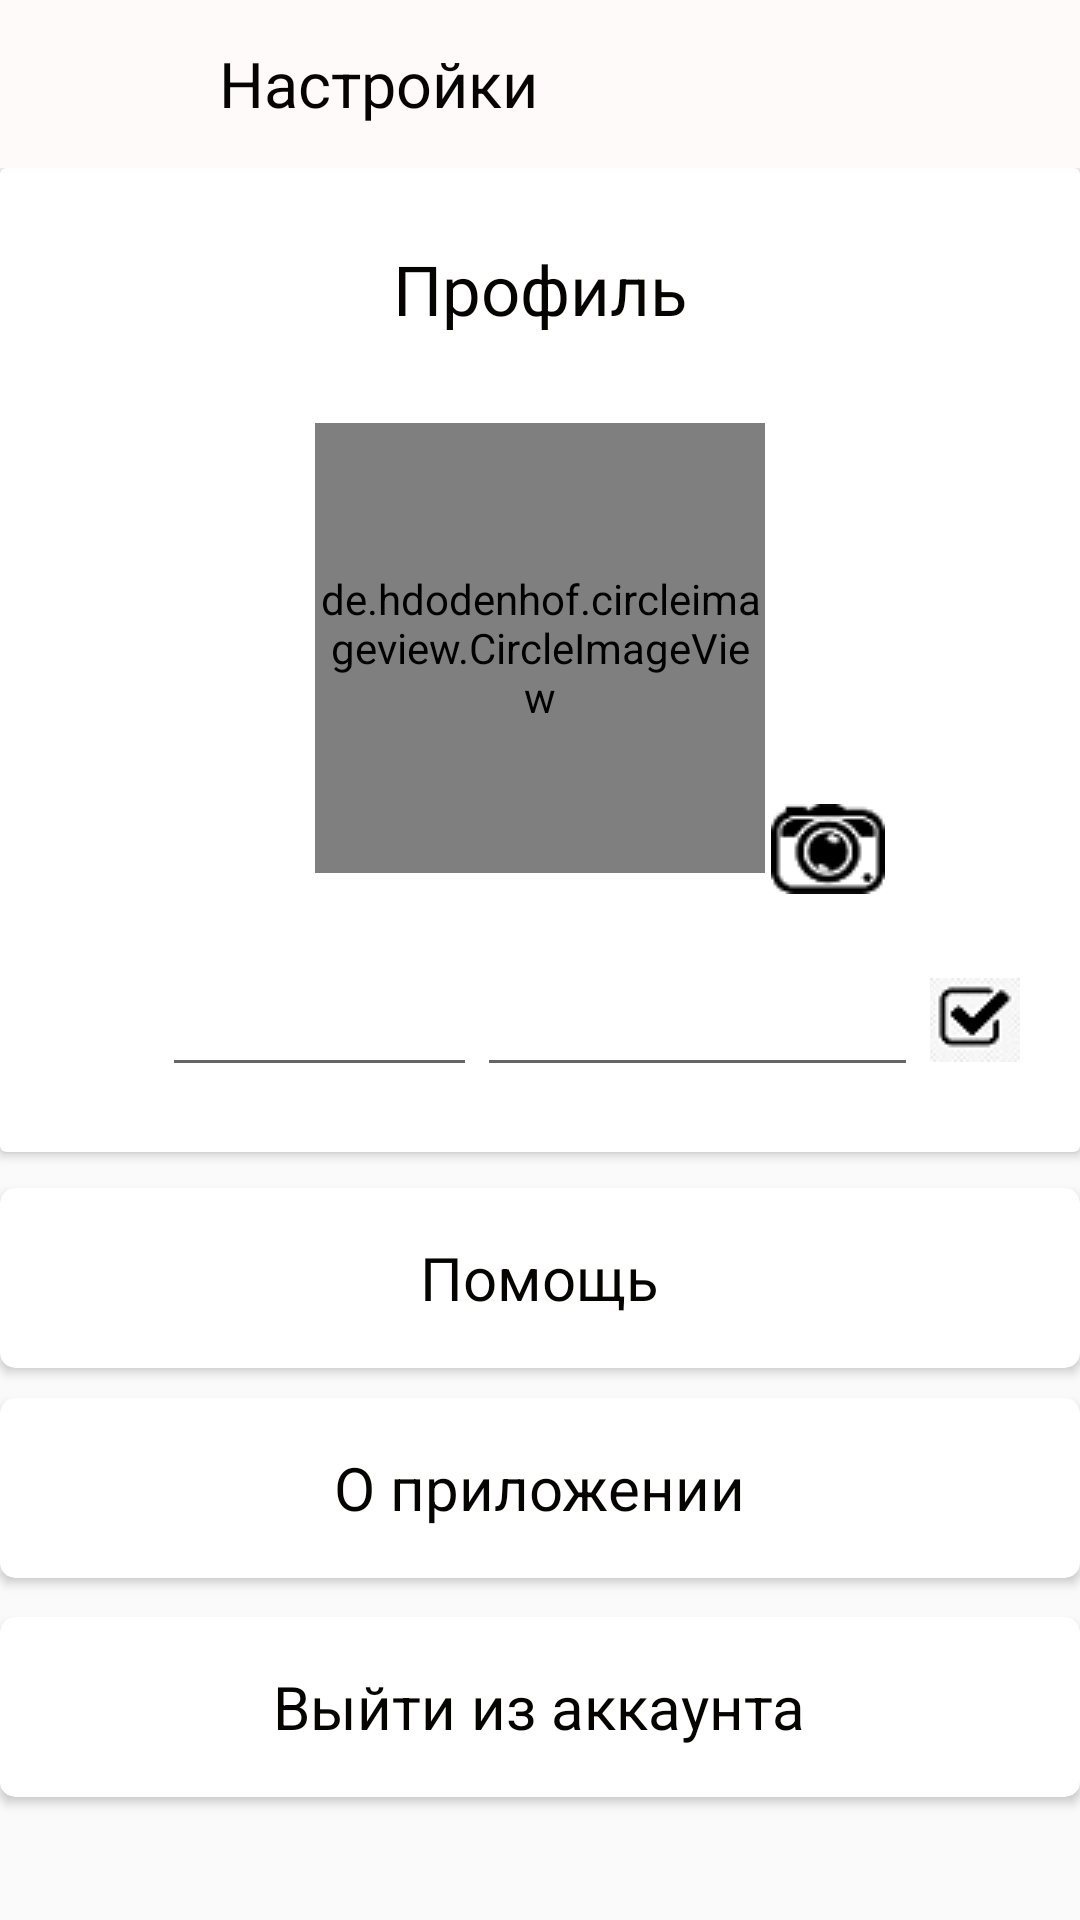

Where icons sit on this 1080px x 1920px app screen, as (x1, y1, x2, y2):
change camera: (771, 804, 885, 894)
check edit: (931, 978, 1019, 1062)
